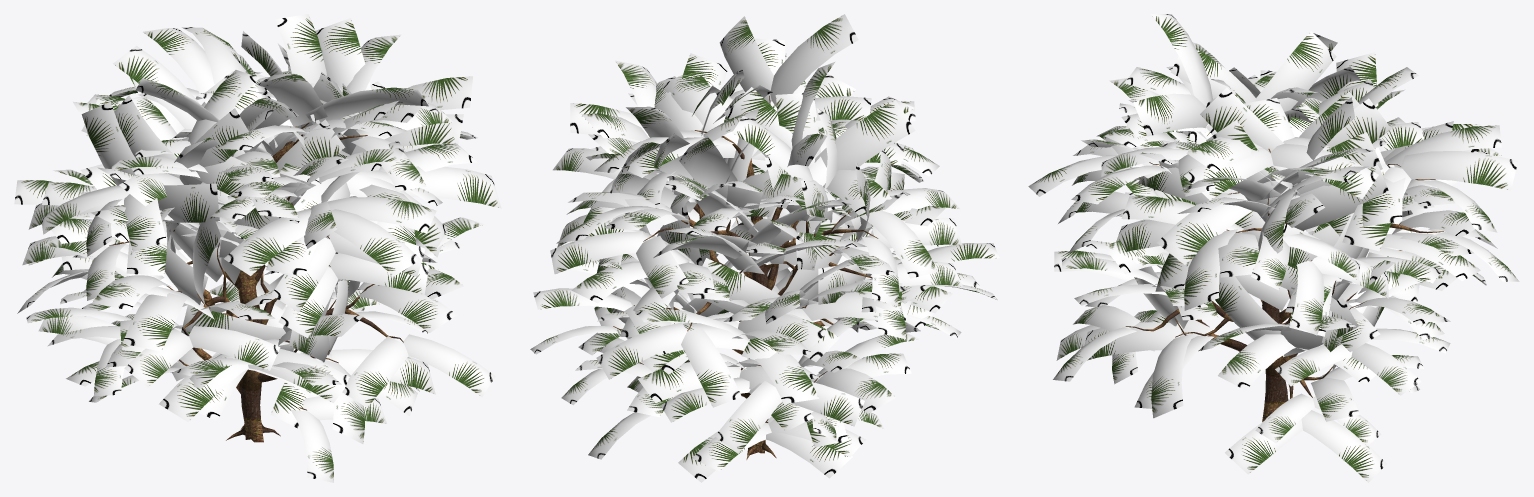
File: Tree_exotic2.fbx
The picture shows the model from 3 angles, left to right: view 1: azimuth 30°, elevation 25°; view 2: azimuth 150°, elevation 25°; view 3: azimuth 270°, elevation 25°; orthographic projection. The views are drawn at different scales.
Visible parts, largest first — view 1: LOD0; view 2: LOD0; view 3: LOD0.
Part boxes in pixels (<box>): LOD0: <box>14,14,501,482</box>; LOD0: <box>530,14,999,482</box>; LOD0: <box>1028,14,1519,482</box>.
Size of what is drawn, in the model's own units: 16.96 by 16.06 by 18.
